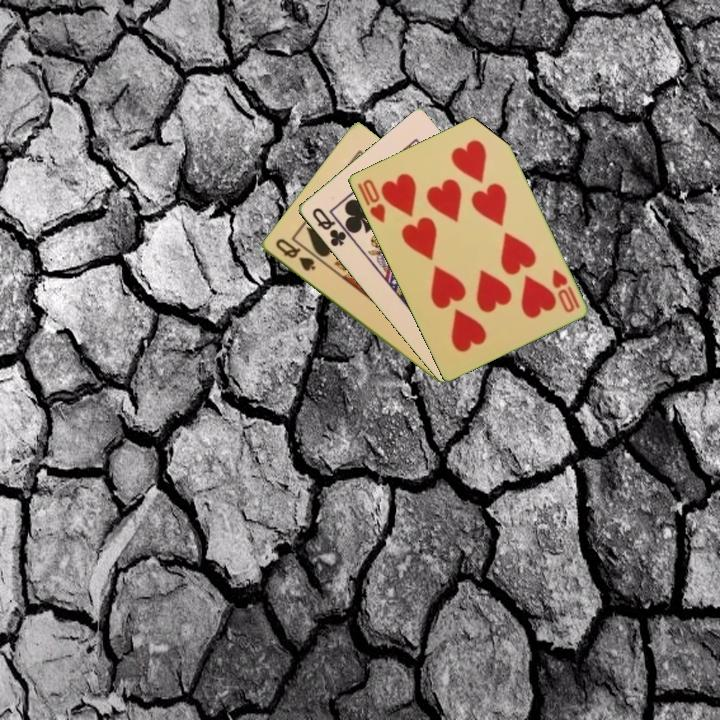10h: (548, 265, 582, 316), (359, 175, 388, 226)
Qc: (308, 204, 349, 250)
Qs: (271, 235, 318, 274)
